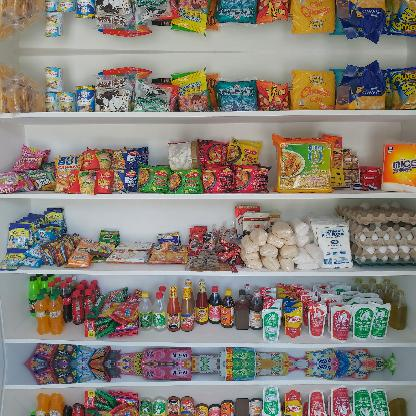Lady-s-Choice: (168, 140, 200, 170)
